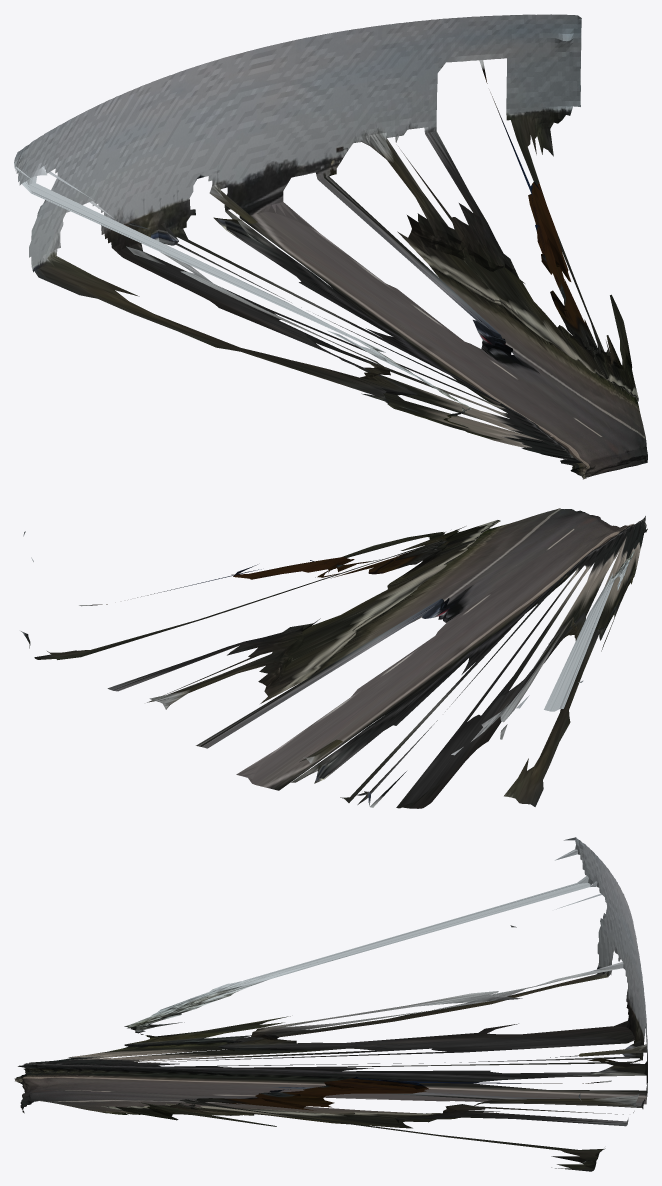
3 renders of one model, top to bottom at view 1: azimuth 30°, elevation 25°; view 2: azimuth 150°, elevation 25°; view 3: azimuth 270°, elevation 25°, orthographic. The views are drawn at different scales.
Parts seen in each view (by area): view 1: defaultobject; view 2: defaultobject; view 3: defaultobject.
Boxes of the visible parts, bbox=[...] form: defaultobject: bbox=[14, 14, 647, 479]; defaultobject: bbox=[21, 508, 647, 808]; defaultobject: bbox=[14, 837, 647, 1171].
Bounding box in the file's own units: 40.83 × 11.82 × 44.61.
Materials: 1 (1 with a texture image).
